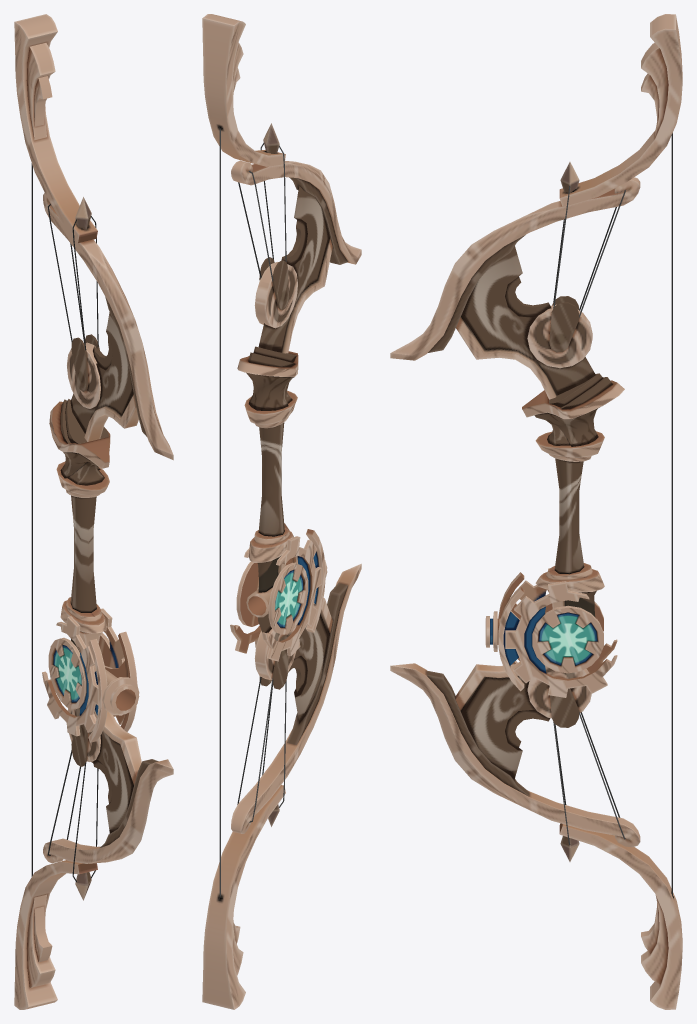
The model's file is Wolf_S_Gravestone_28.glb.
3 renders of one model, left to right at view 1: azimuth 30°, elevation 25°; view 2: azimuth 150°, elevation 25°; view 3: azimuth 270°, elevation 25°, orthographic.
Parts seen in each view (by area): view 1: Object_133; view 2: Object_133; view 3: Object_133.
Part boxes in pixels (x1,y1,x2,y2): Object_133: (14,14,173,1009); Object_133: (202,14,361,1009); Object_133: (390,14,682,1009).
Size of the model in its own units: 0.0443 by 0.8509 by 0.2298.
Materials: 1 (1 with a texture image).
